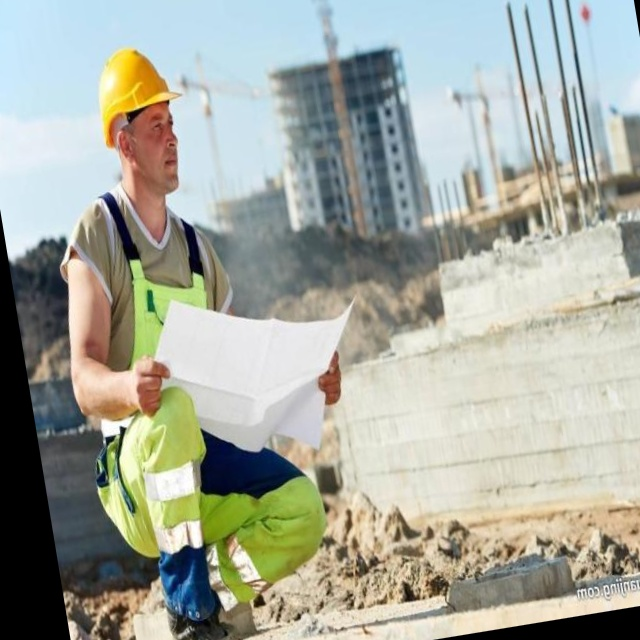Con_Casco: (91, 45, 186, 196)
